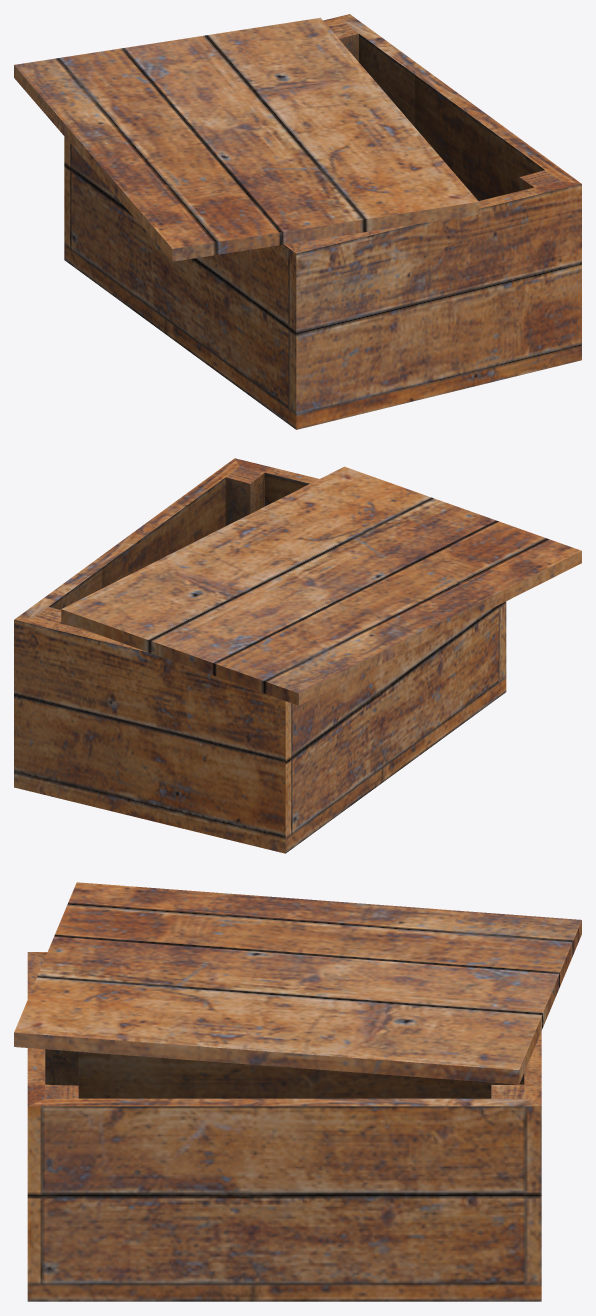
File: storageBin.gltf
3 renders of one model, top to bottom at view 1: azimuth 30°, elevation 25°; view 2: azimuth 150°, elevation 25°; view 3: azimuth 270°, elevation 25°, orthographic. The views are drawn at different scales.
Visible parts, largest first — view 1: Crate03a, Crate03b; view 2: Crate03a, Crate03b; view 3: Crate03a, Crate03b.
Part boxes in pixels (x1,y1,x2,y2): Crate03a: (64, 14, 581, 429); Crate03b: (14, 17, 478, 261); Crate03a: (14, 458, 506, 853); Crate03b: (61, 466, 581, 705); Crate03a: (27, 952, 541, 1301); Crate03b: (14, 882, 581, 1084).
Bounding box in the file's own units: 1.44 × 0.6757 × 1.66.
Materials: 1 (1 with a texture image).
